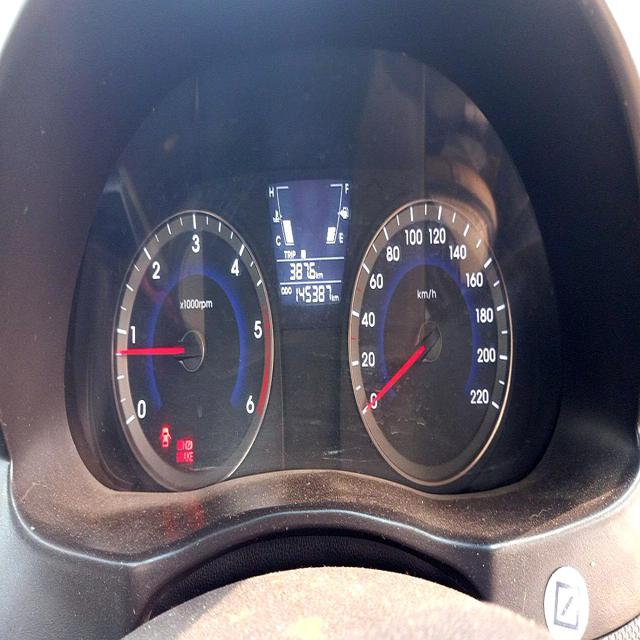odometer: (293, 281, 333, 306)
